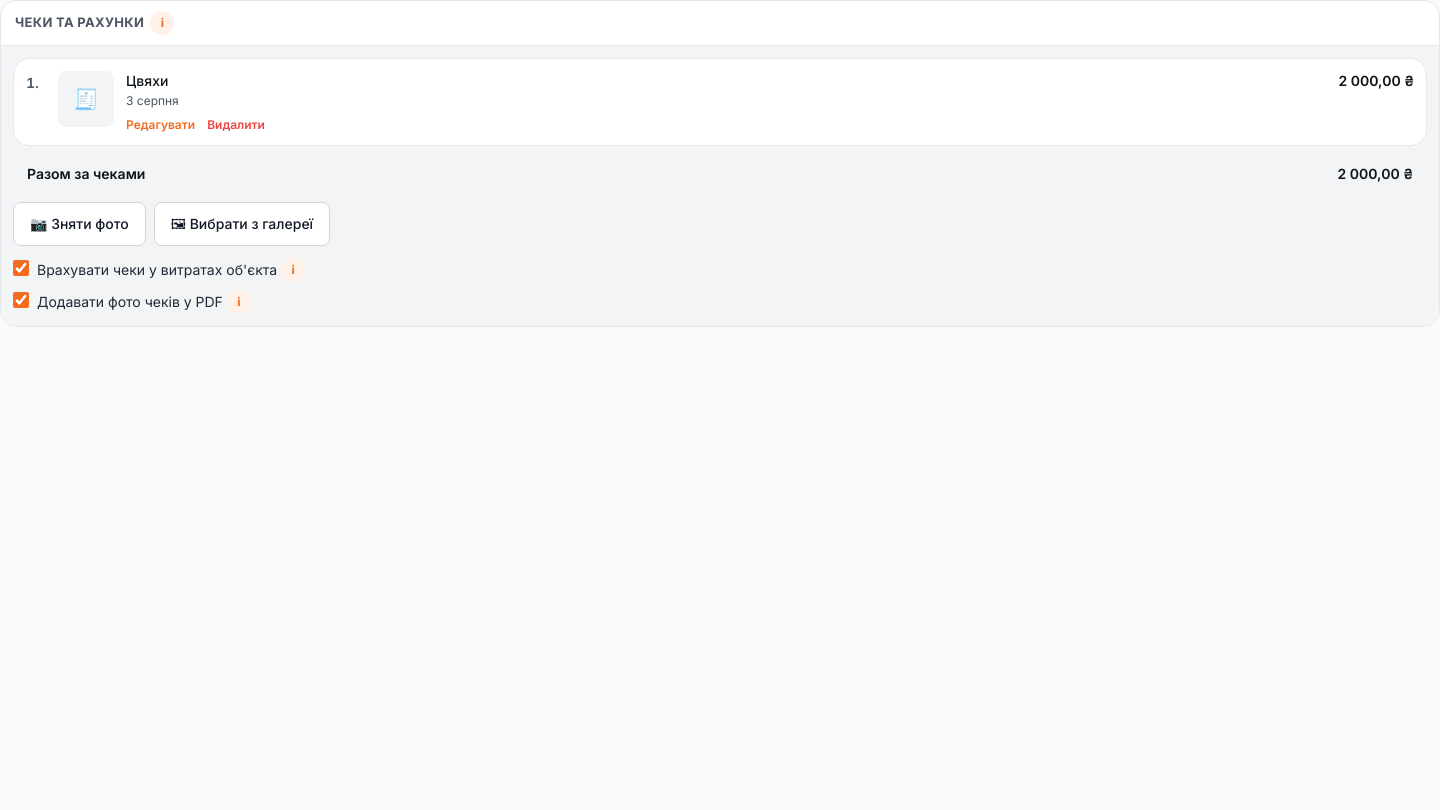
Test: ActReceiptsSection — an unreadable amount is refused, never billed as zero (P-35) › shuts the Save button and names the field instead of billing 0 ₴
Click the button "Редагувати".
click(161, 125)  # box [126, 117, 195, 133]
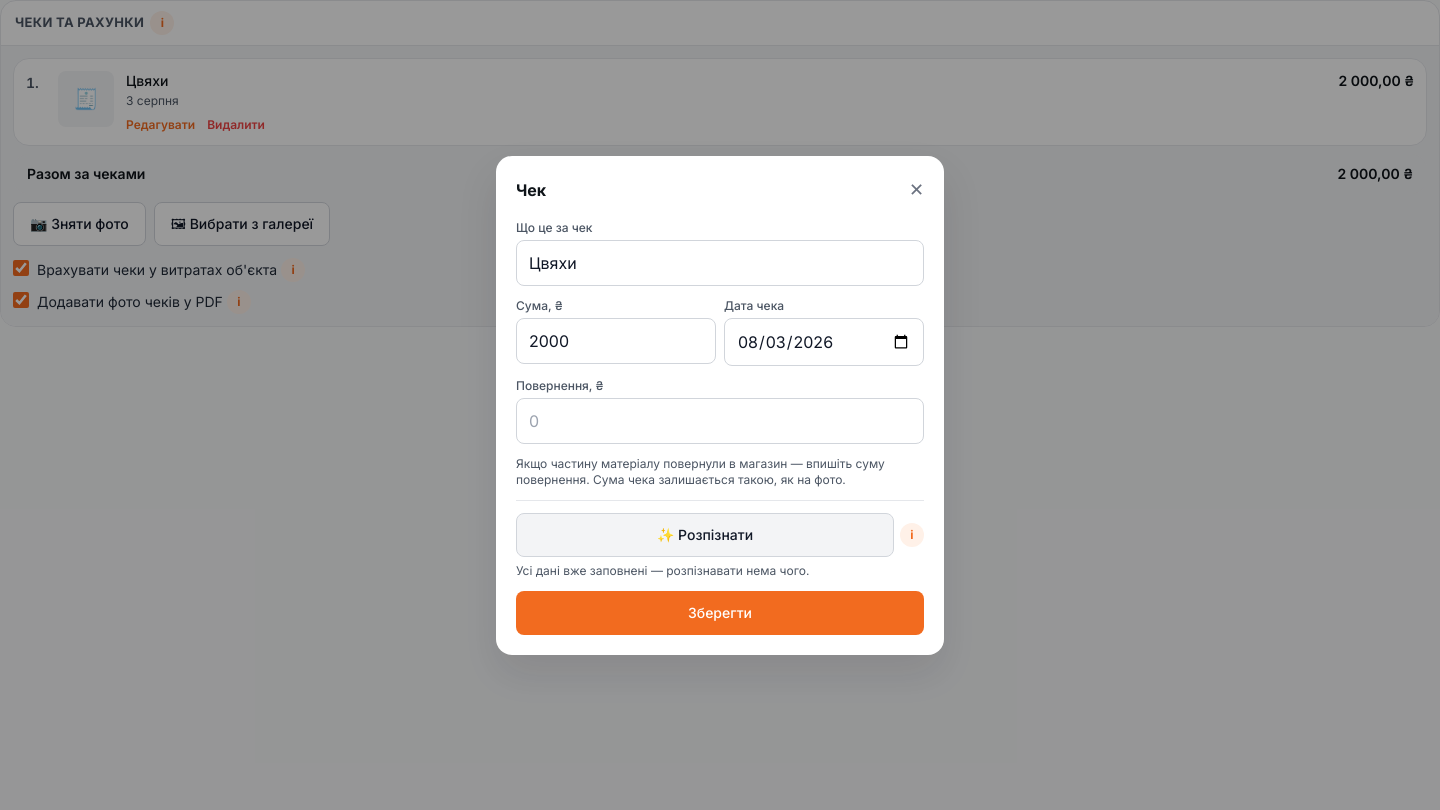
Replace the text in the field showing "2000" with "12а" at (616, 340), box [516, 318, 716, 364]
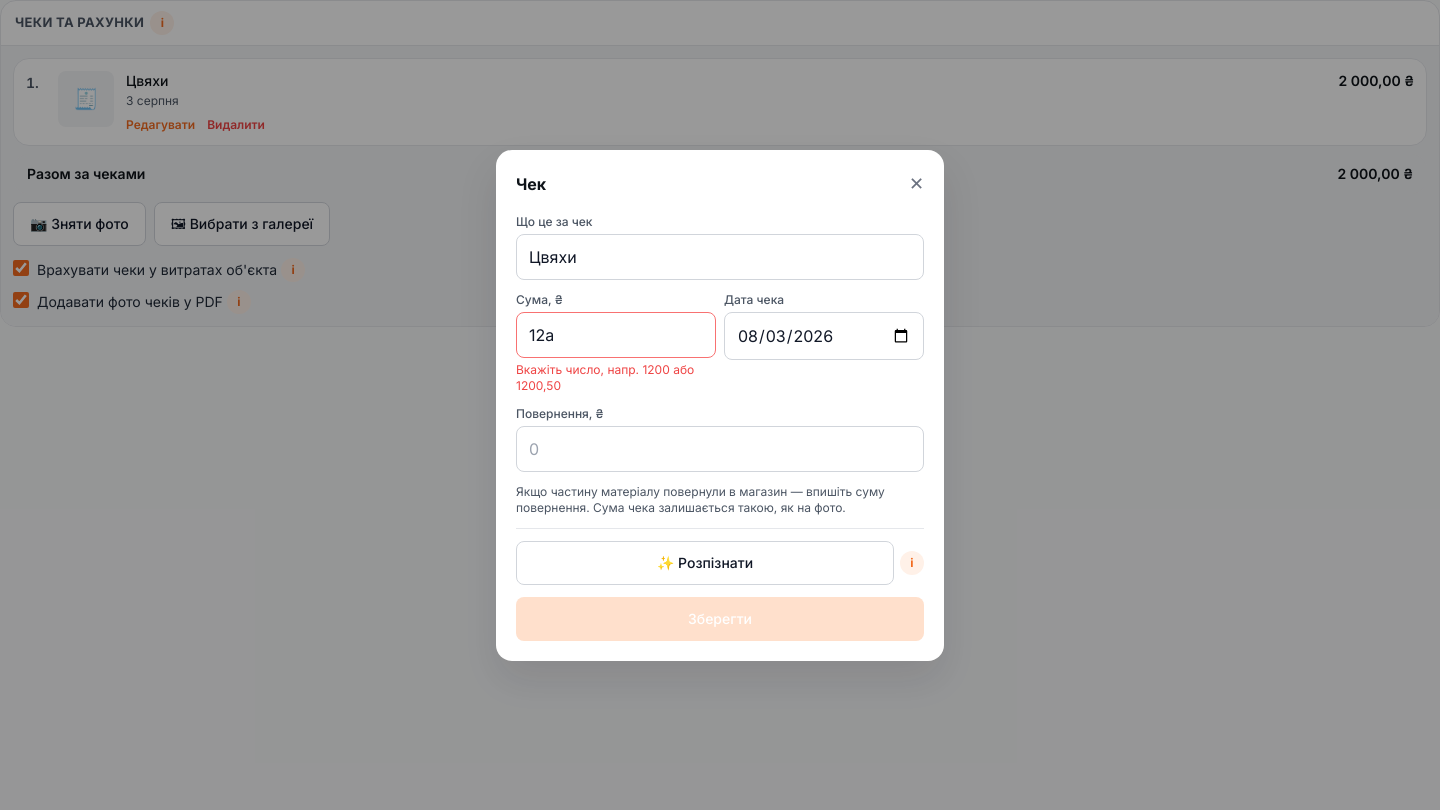
Check: the text "Вкажіть число, напр. 1200 або 1200,50" is shown, box [516, 362, 716, 394]
Check: the button "Зберегти" is disabled, box [516, 596, 924, 640]
